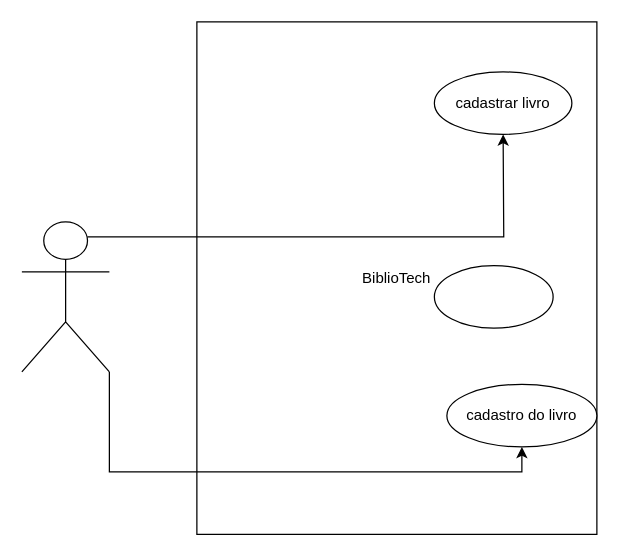
The diagram is 619 pixels wide and 556 high, and some of its shapes have lost their labels. The centre of each missing label's shape, as x and y in pixels:
"bibliotecario" belongs at (x=65, y=296).
"identificar disponibilidade" belongs at (x=493, y=296).
